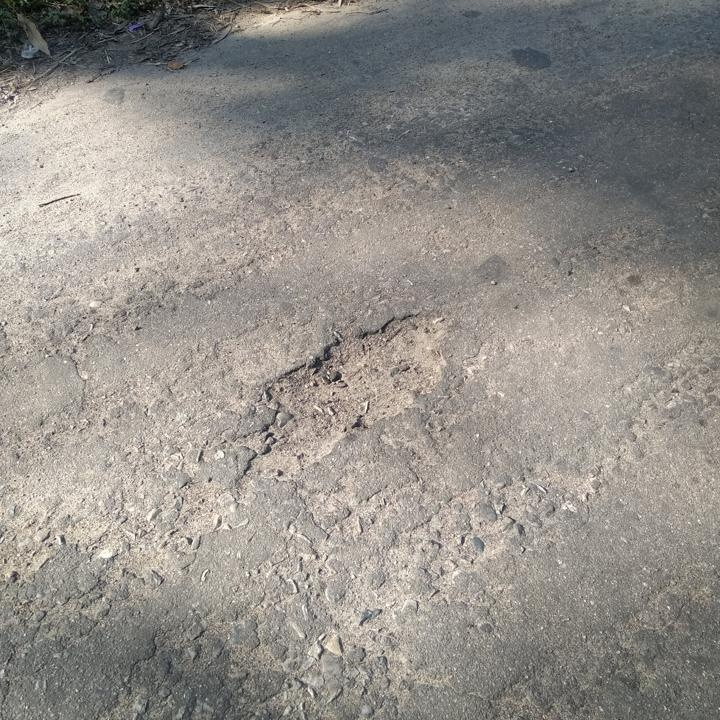pothole: (235, 305, 454, 482)
